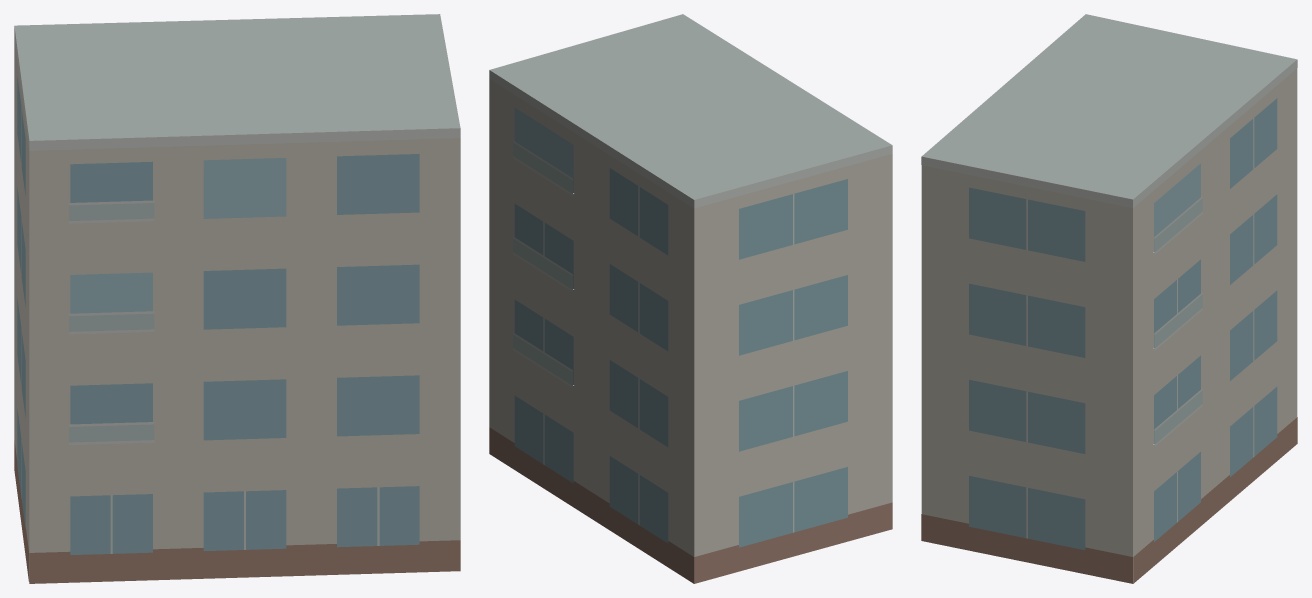
File: survey-upis-32727155.glb
3 renders of one model, left to right at view 1: azimuth 30°, elevation 25°; view 2: azimuth 150°, elevation 25°; view 3: azimuth 270°, elevation 25°, orthographic. The views are drawn at different scales.
Parts seen in each view (by area): view 1: survey-upis-32727155.tmp; view 2: survey-upis-32727155.tmp; view 3: survey-upis-32727155.tmp.
Part boxes in pixels (left/top/right/bottom): survey-upis-32727155.tmp: left=14, top=14, right=460, bottom=583; survey-upis-32727155.tmp: left=489, top=14, right=892, bottom=583; survey-upis-32727155.tmp: left=921, top=14, right=1297, bottom=583.
Bounding box in the file's own units: 11.4 × 11 × 9.76.
